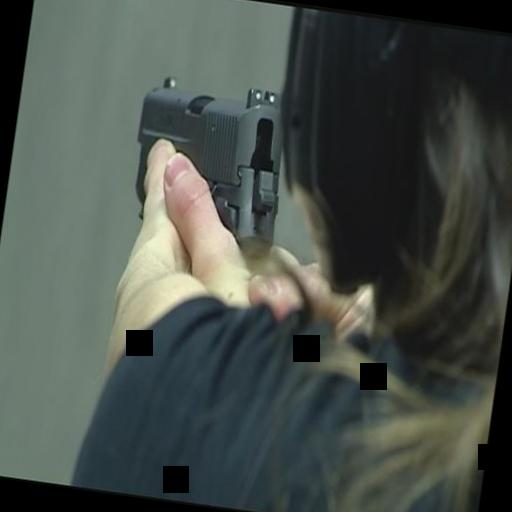Handgun: (115, 70, 302, 260)
